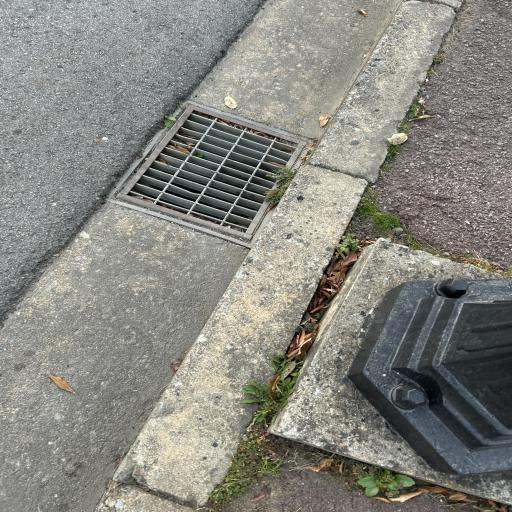debris: (265, 167, 295, 206), (170, 145, 189, 152)
drain: (117, 103, 308, 241)
